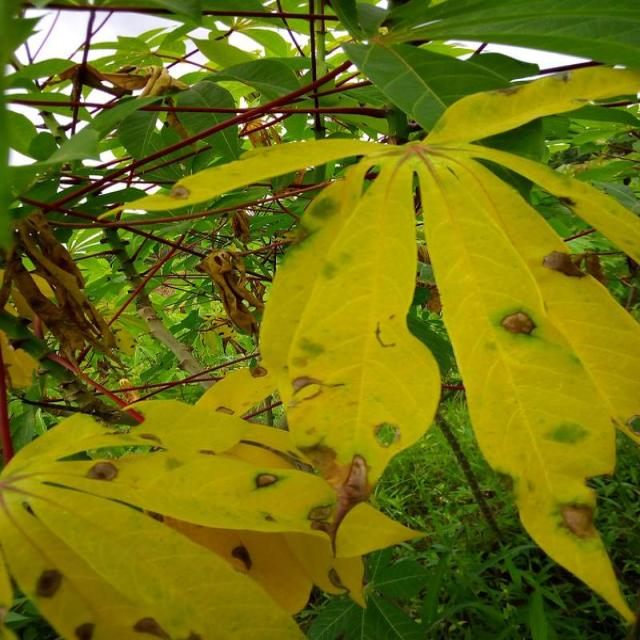cassava leaf: (1, 7, 638, 636), (0, 392, 339, 638), (258, 144, 442, 495)
